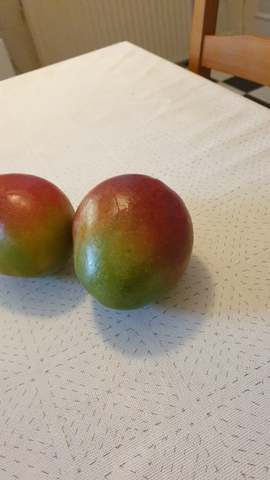Mango: (73, 173, 194, 308)
